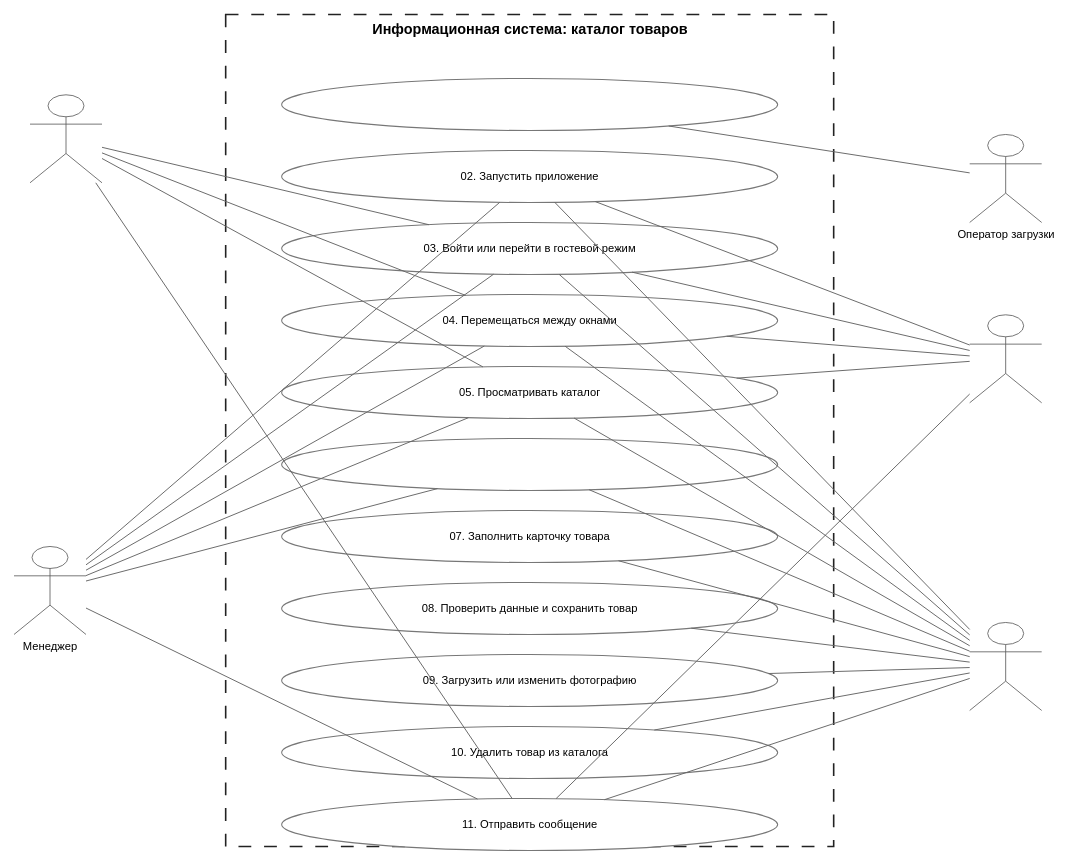
Some shapes in this 1069 by 865 pixel diagram are drawn without their labels. Here are the shapes that lost their labels. From the top down, the centre of each, then its label:
(x=529, y=104): 01. Импортировать подготовленные данные
(x=65, y=138): Гость
(x=1005, y=358): Клиент
(x=529, y=464): 06. Искать, фильтровать и сортировать товары
(x=1005, y=666): Администратор
